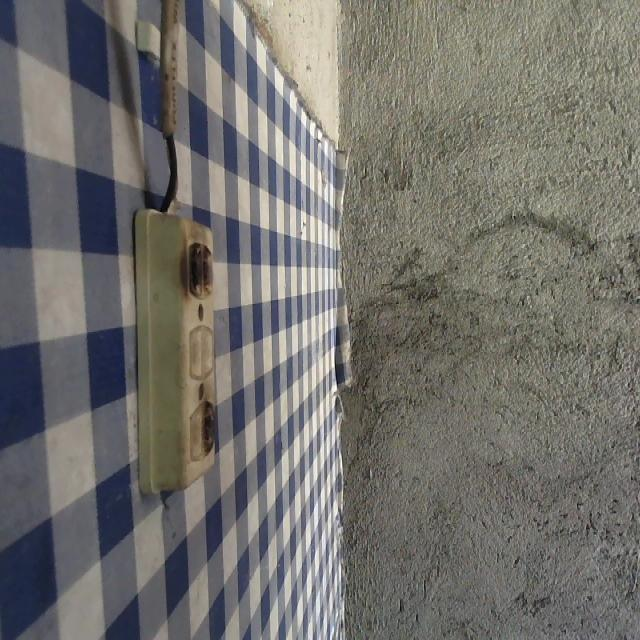-: (181, 232, 220, 304), (197, 390, 221, 466)
